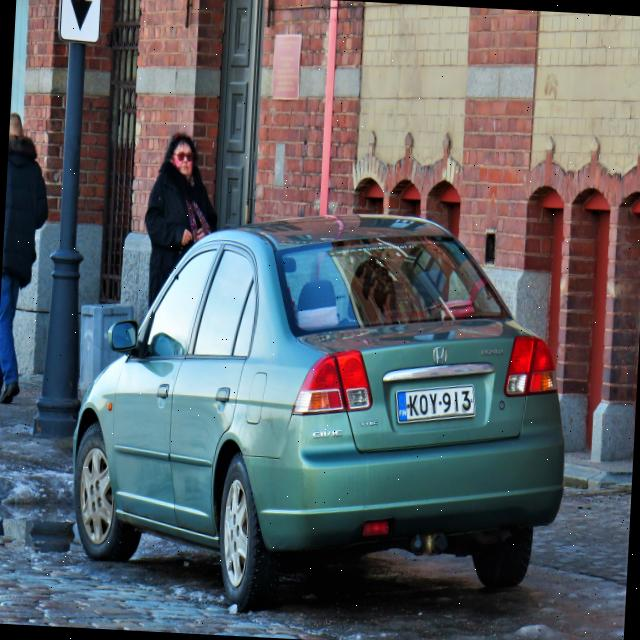License-plate: (395, 378, 480, 432)
